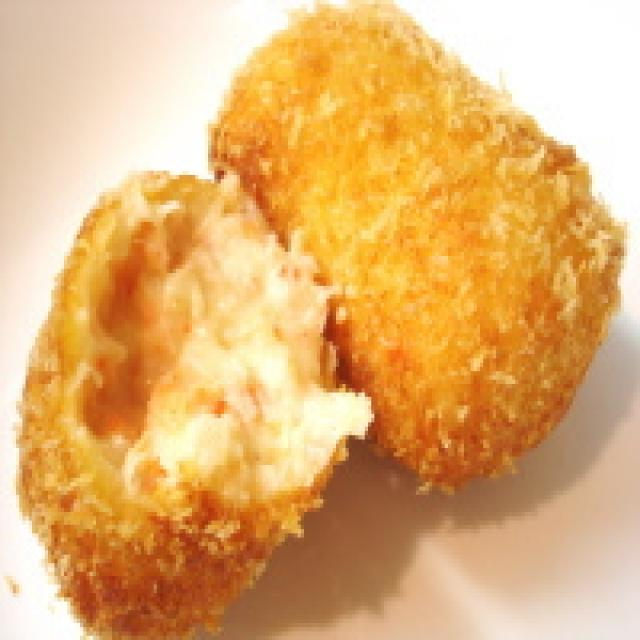炸货点心: (22, 30, 608, 631)
